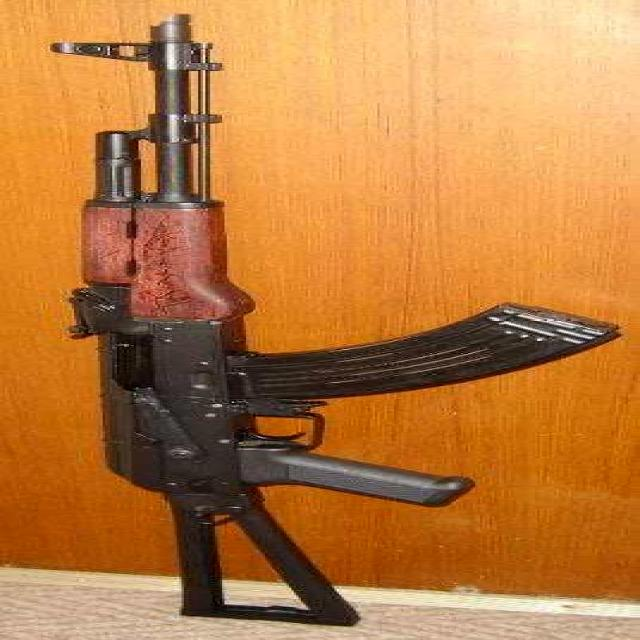ak: (45, 6, 595, 628)
